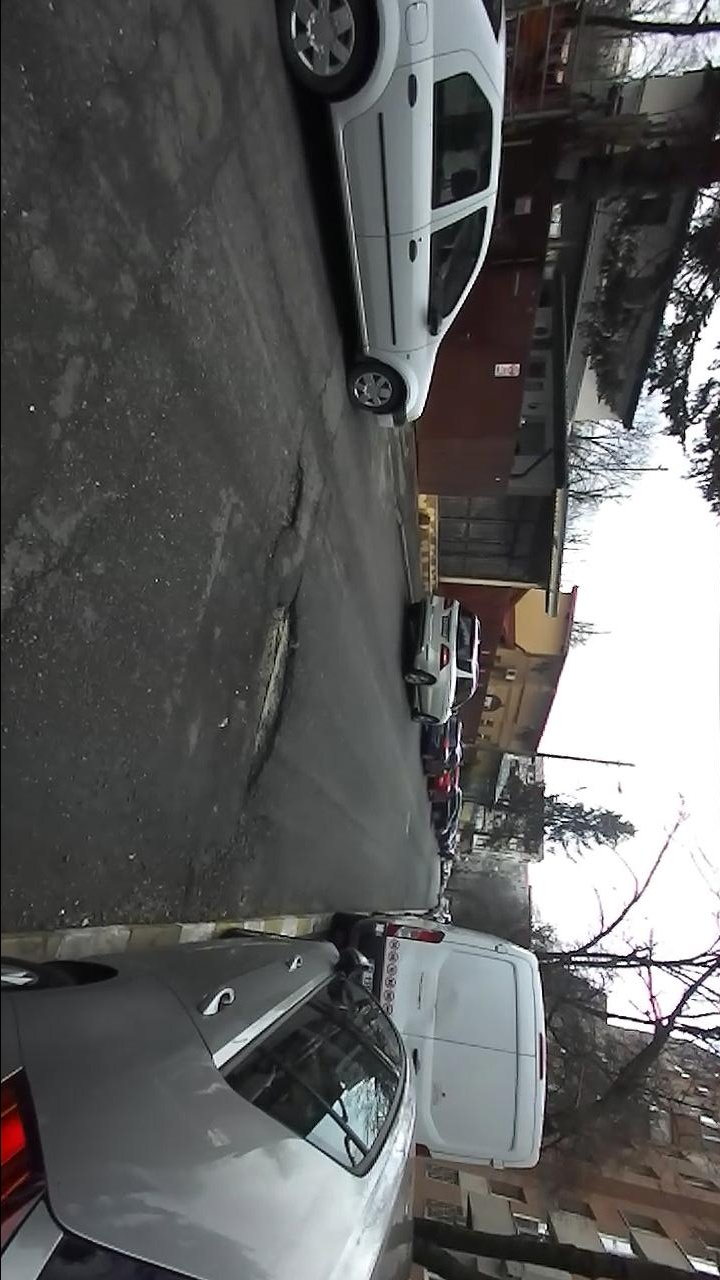pothole: (235, 572, 309, 805), (267, 456, 308, 562)
